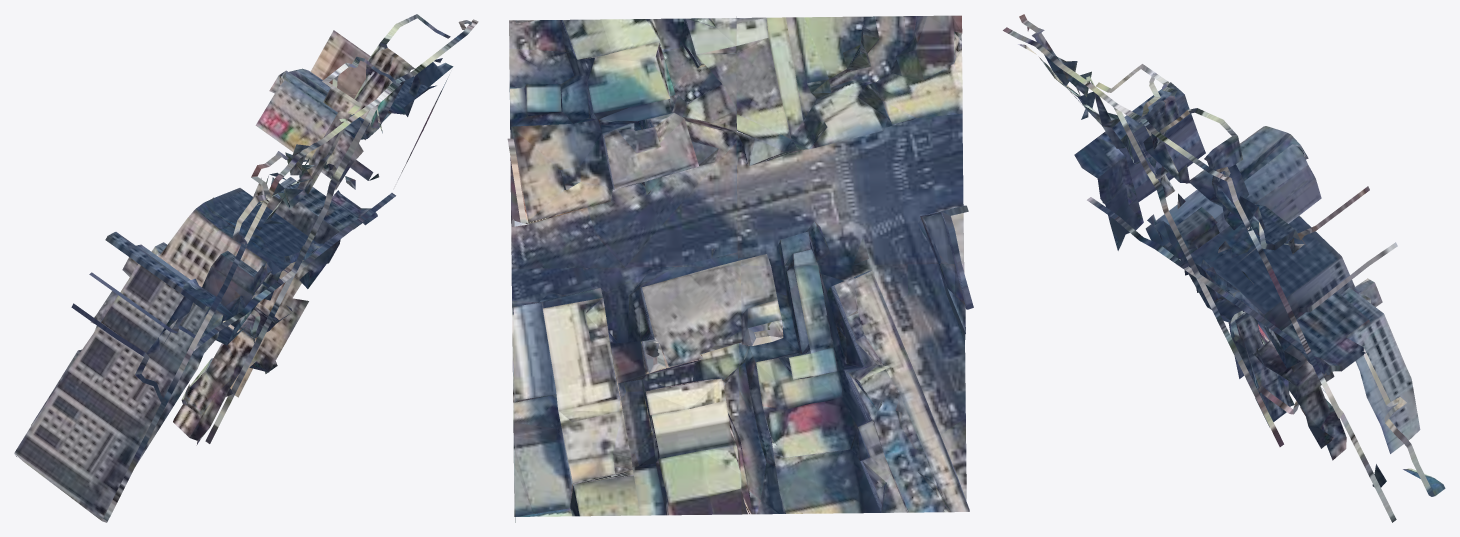
3 renders of one model, left to right at view 1: azimuth 30°, elevation 25°; view 2: azimuth 150°, elevation 25°; view 3: azimuth 270°, elevation 25°, orthographic. The views are drawn at different scales.
Size of the model in its own units: 170 by 147 by 145.
1 material, 1 textured.
